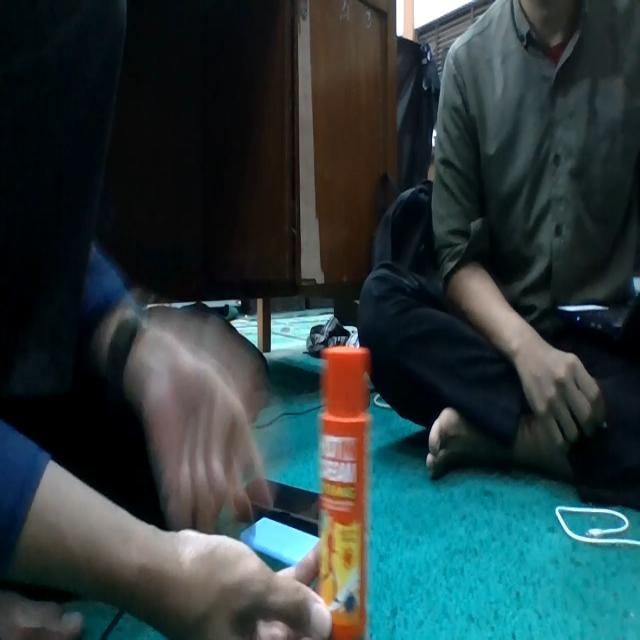Boncabe: (316, 348, 370, 639)
Powerbank: (240, 517, 318, 566)
